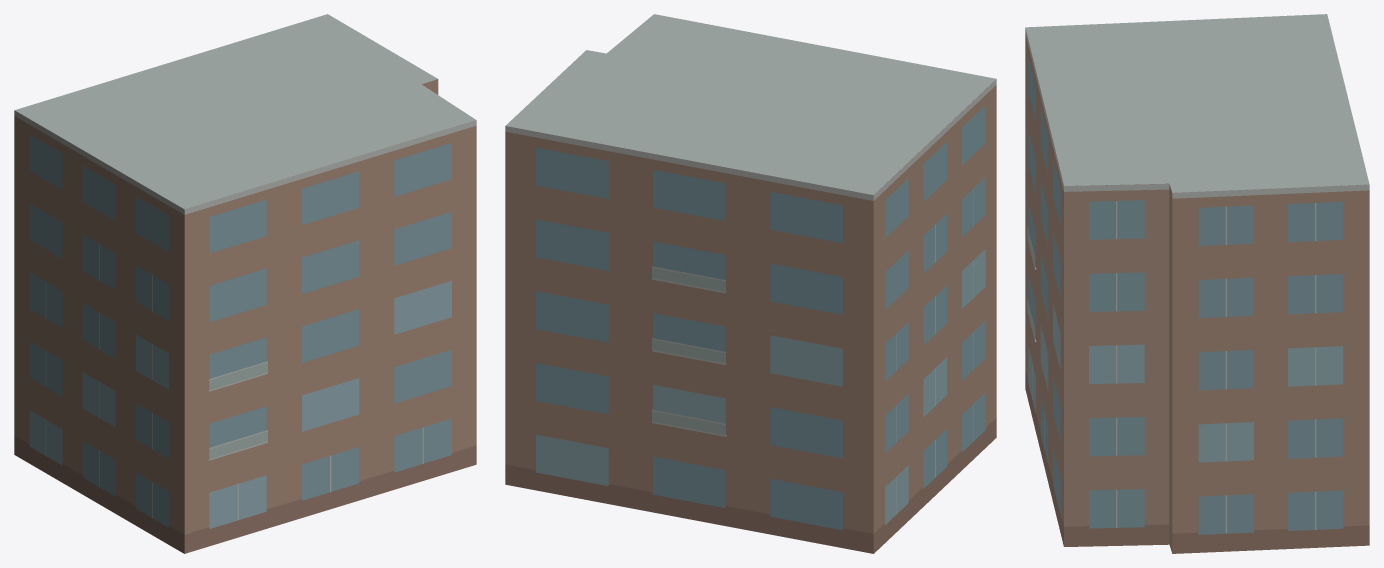
Rendered from survey-upis-32943631.glb.
The picture shows the model from 3 angles, left to right: view 1: azimuth 30°, elevation 25°; view 2: azimuth 150°, elevation 25°; view 3: azimuth 270°, elevation 25°; orthographic projection. The views are drawn at different scales.
Parts seen in each view (by area): view 1: survey-upis-32943631.tmp; view 2: survey-upis-32943631.tmp; view 3: survey-upis-32943631.tmp.
Boxes of the visible parts, x1,y1,x2,y2 form: survey-upis-32943631.tmp: (14,14,476,553); survey-upis-32943631.tmp: (505,14,996,553); survey-upis-32943631.tmp: (1025,14,1369,553).
Bounding box in the file's own units: 16 × 15.05 × 13.02.
